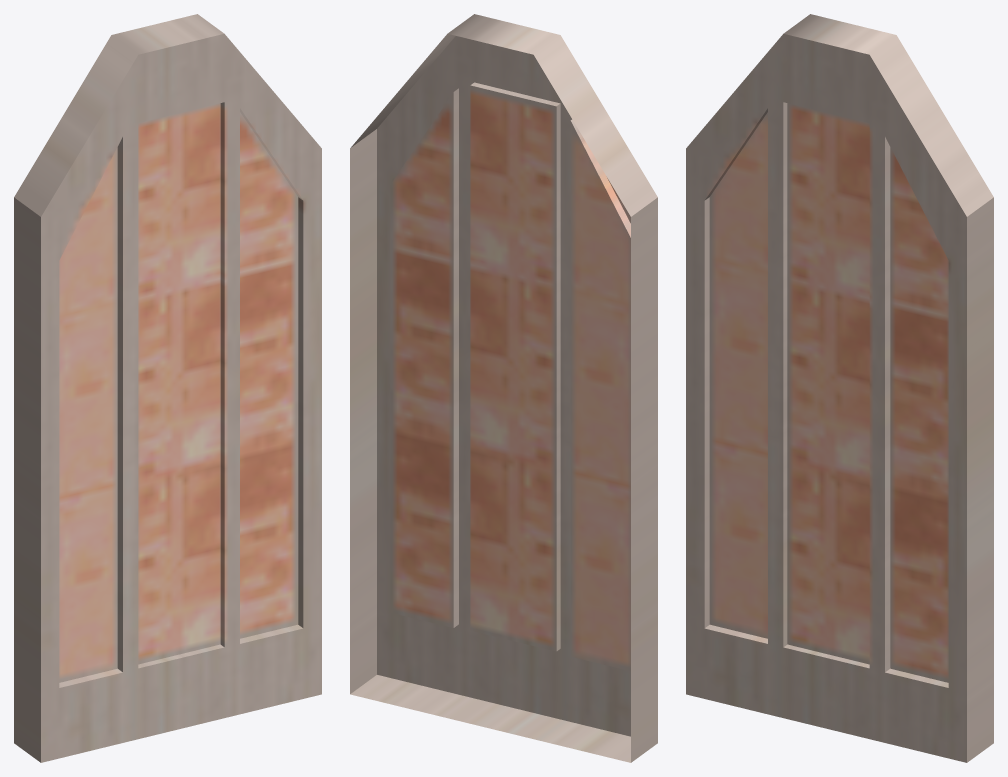
Rendered from castle_break5.fbx.
The picture shows the model from 3 angles, left to right: view 1: azimuth 30°, elevation 25°; view 2: azimuth 150°, elevation 25°; view 3: azimuth 330°, elevation 25°; orthographic projection.
Parts seen in each view (by area): view 1: polySurface42; view 2: polySurface42; view 3: polySurface42.
Part boxes in pixels (box(x1,y1,x2,y2)): polySurface42: box(14, 14, 321, 762); polySurface42: box(350, 14, 657, 762); polySurface42: box(686, 14, 993, 762).
Size of the model in its own units: 0.2107 by 0.4905 by 0.035.
